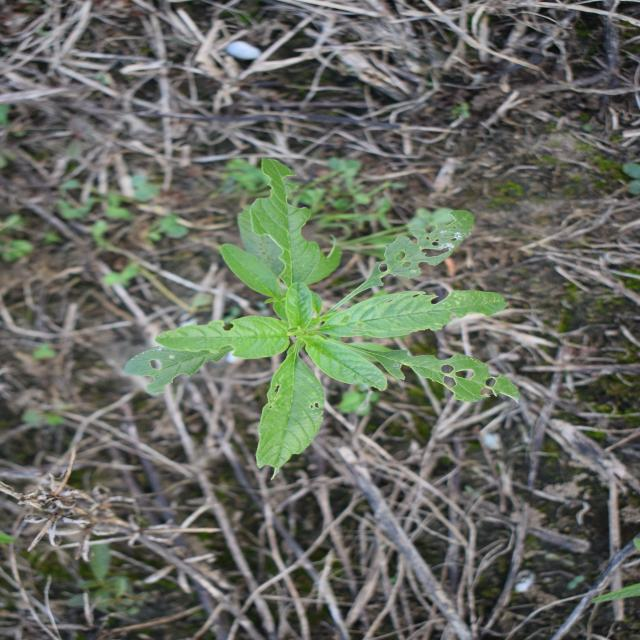Waterhemp: (123, 156, 524, 482)
